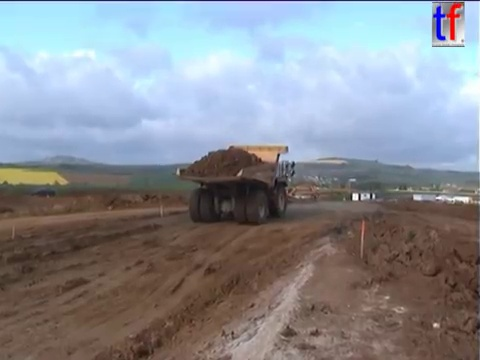truck: (172, 142, 297, 225)
